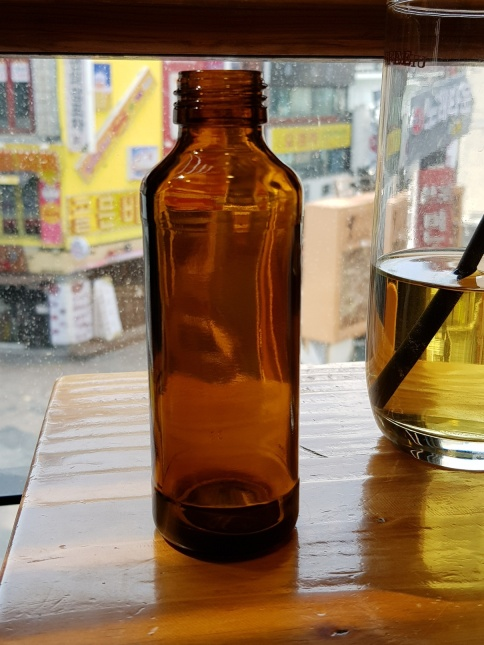Glass: (137, 65, 306, 555)
